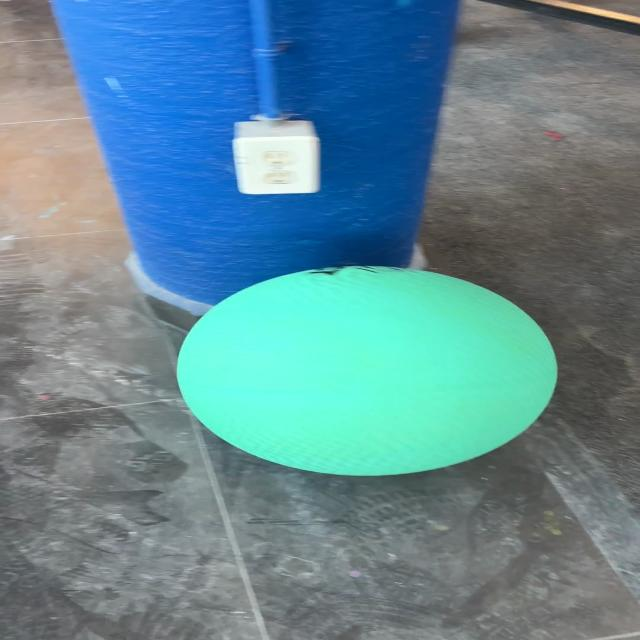Algae: (174, 264, 558, 477)
